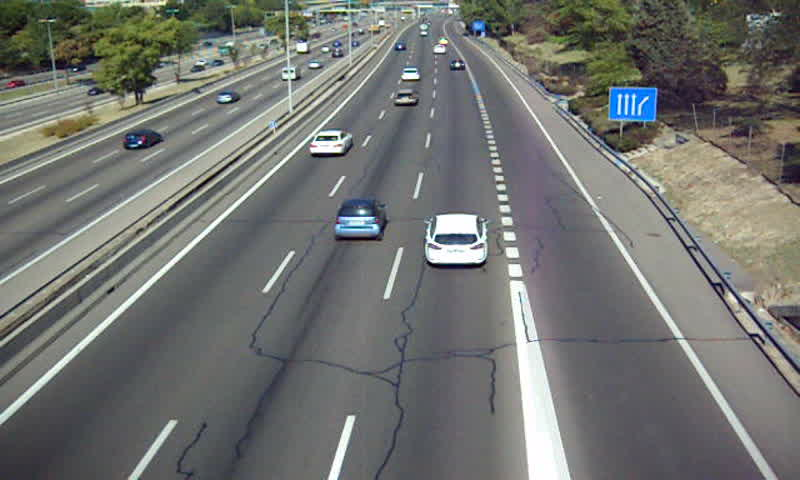car: (424, 213, 489, 265), (333, 200, 386, 242), (308, 130, 353, 157), (393, 88, 418, 106), (399, 67, 420, 83), (449, 58, 466, 70)
